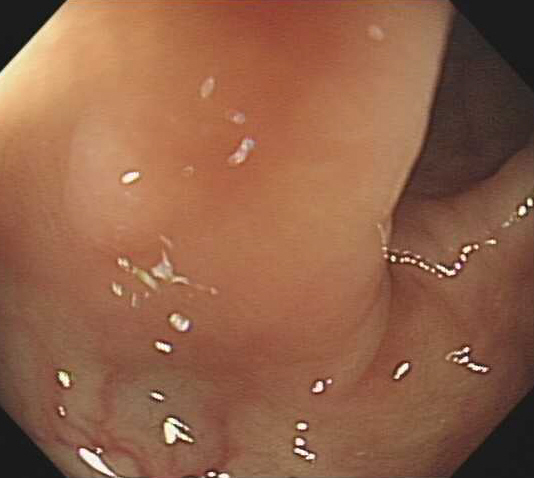others: (60, 94, 185, 258)
